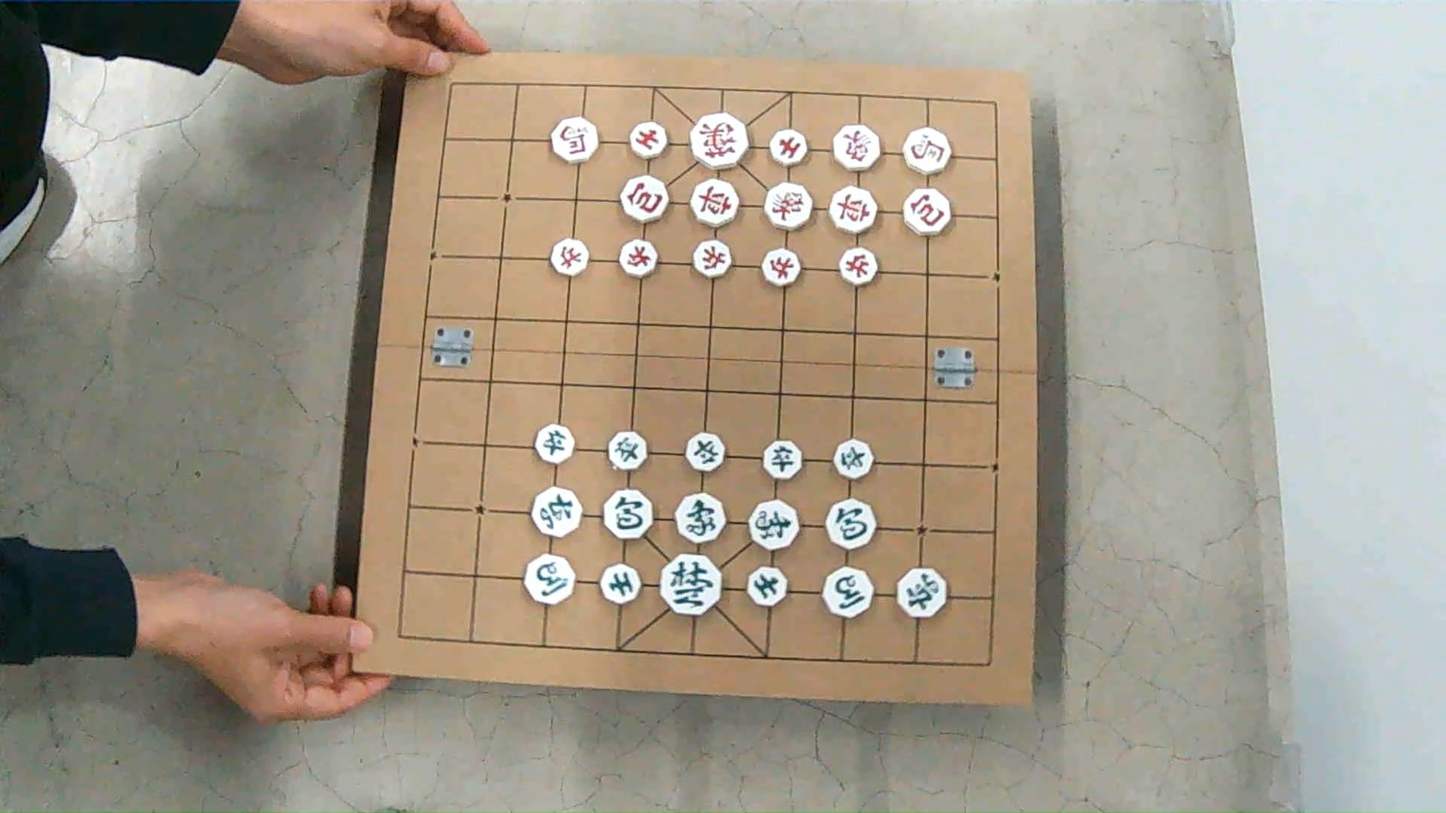cha_green: (532, 487, 581, 537), (897, 568, 947, 617)
cha_red: (691, 179, 737, 227), (829, 187, 877, 233)
jol_green: (535, 424, 574, 464), (834, 440, 873, 479), (764, 440, 802, 480), (685, 433, 724, 471), (609, 431, 646, 470)
jol_red: (619, 239, 657, 277), (694, 240, 731, 278), (762, 249, 800, 286), (840, 248, 877, 285), (551, 239, 587, 276)
ma_green: (823, 568, 873, 617), (525, 555, 573, 604)
ma_red: (903, 128, 950, 174), (552, 117, 597, 163)
po_green: (826, 499, 875, 550), (603, 489, 652, 539)
po_red: (621, 176, 667, 222), (904, 189, 950, 235)
sa_green: (600, 564, 640, 604), (748, 567, 786, 606)
sa_red: (770, 129, 807, 166), (630, 122, 667, 159)
sang_green: (676, 493, 725, 544), (749, 500, 798, 550)
sang_red: (765, 183, 811, 230), (833, 126, 879, 171)
wang_green: (661, 553, 721, 615)
wang_red: (691, 113, 748, 169)
